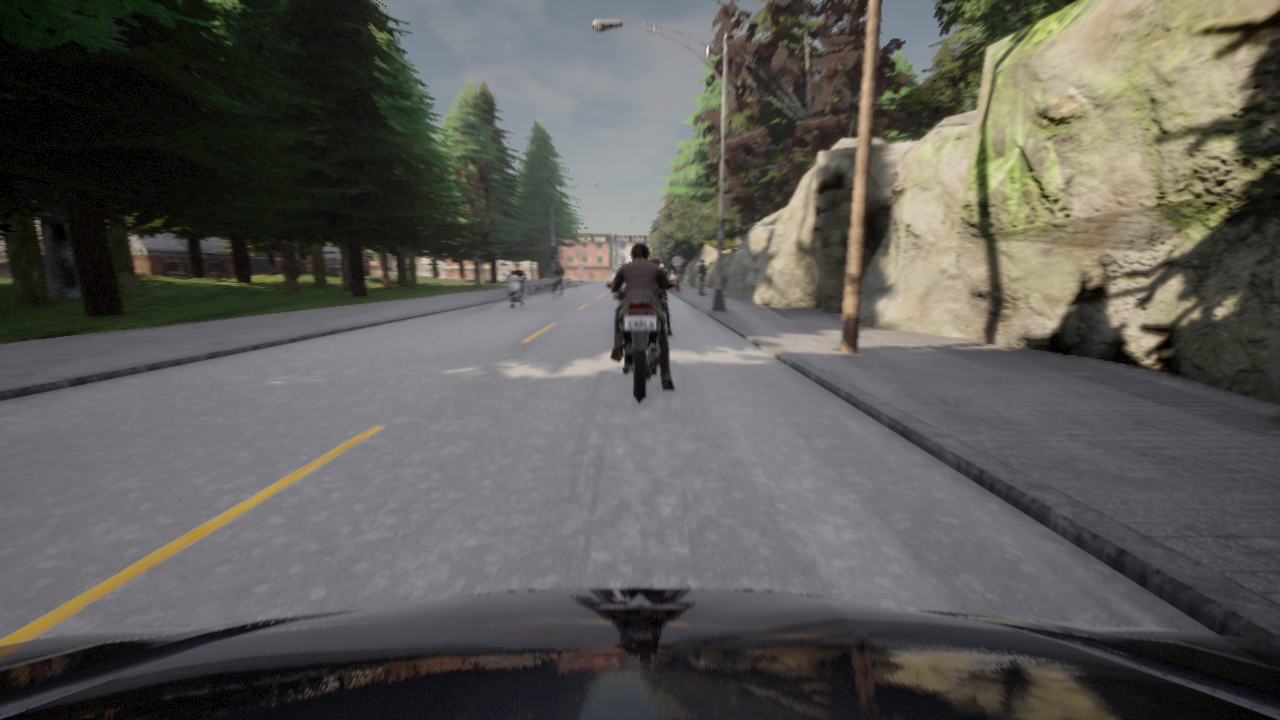cyclist: (0, 588, 1279, 719), (606, 283, 673, 402), (503, 272, 527, 308), (655, 279, 674, 323), (555, 283, 562, 300)
pedestrian: (697, 260, 707, 294)
